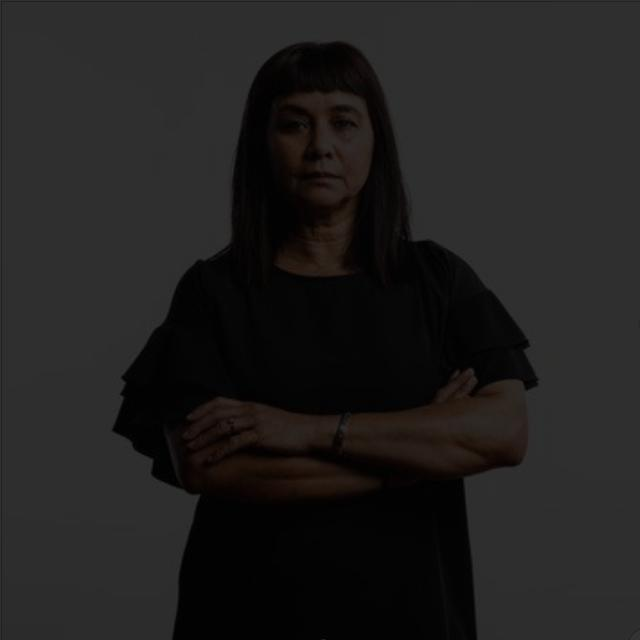Natural: (220, 65, 404, 227)
